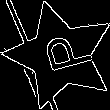P_W: (29, 31, 91, 81)
